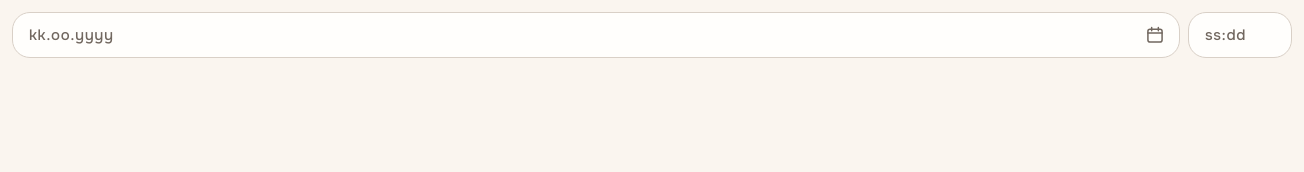
Test: DateTimeField › combines date + 24h time, defaulting a blank time to the end of the day
The image size is (1304, 172).
Later steps or results of the test are not shown.
Type "21102026" into the field named "Sana" at (573, 35), box [13, 13, 1133, 57]
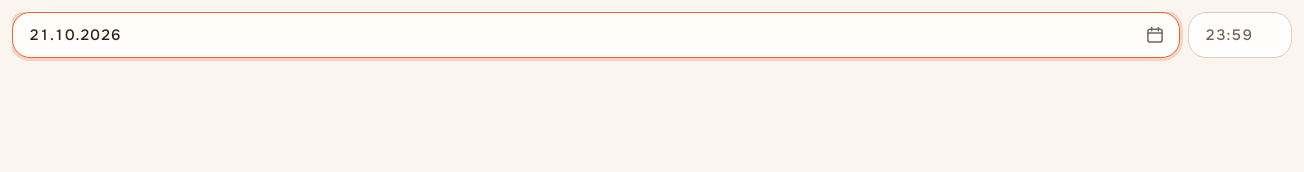
Expected: the field named "Vaqt" has attribute placeholder="23:59", [1189, 13, 1291, 57]
